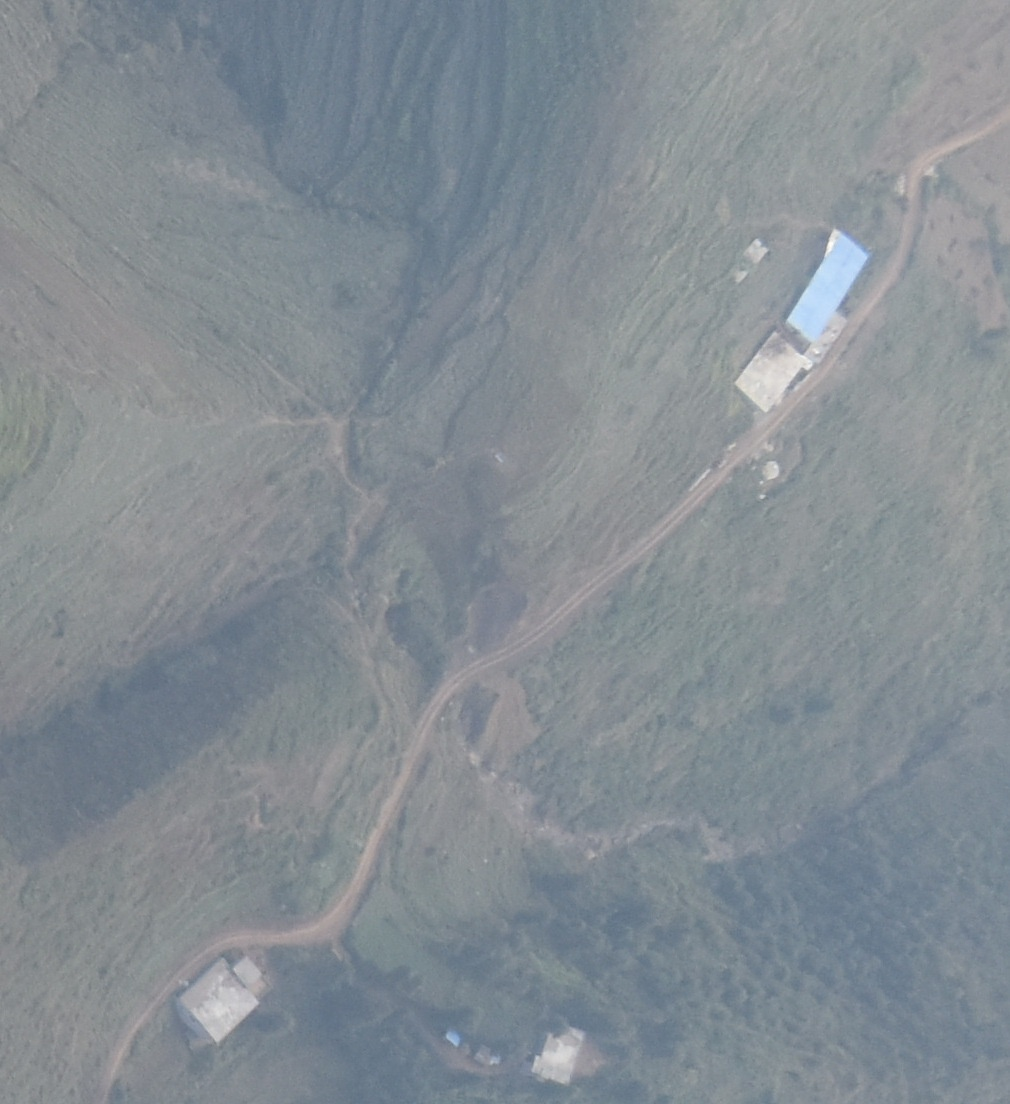building: (787, 229, 873, 345), (175, 956, 264, 1044), (736, 330, 806, 413), (531, 1024, 584, 1085)
landslide: (464, 753, 809, 877)
well: (761, 460, 781, 480)
